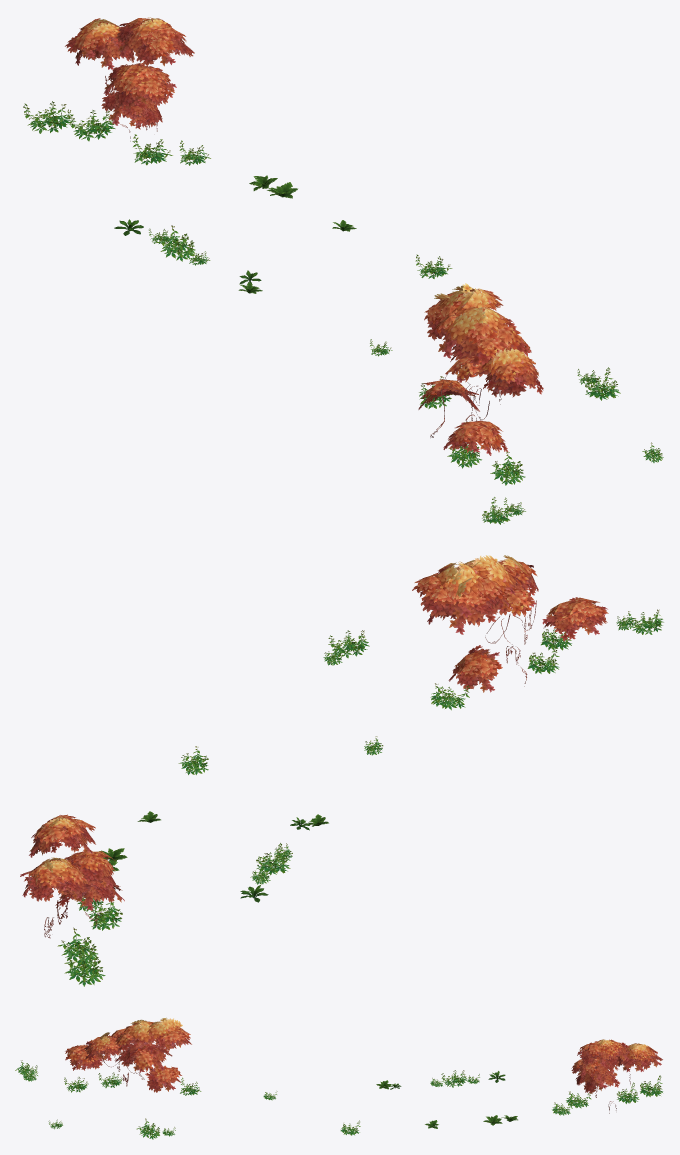
The model's file is zhibei7_1.fbx.
The picture shows the model from 3 angles, top to bottom: view 1: azimuth 30°, elevation 25°; view 2: azimuth 150°, elevation 25°; view 3: azimuth 270°, elevation 25°; orthographic projection. The views are drawn at different scales.
Visible parts, largest first — view 1: zhibei7_1; view 2: zhibei7_1; view 3: zhibei7_1.
Part boxes in pixels (x1,y1,x2,y2): zhibei7_1: (23, 17, 663, 524); zhibei7_1: (20, 555, 663, 986); zhibei7_1: (15, 1017, 662, 1139).
Size of the model in its own units: 1901 by 1009 by 7289.
